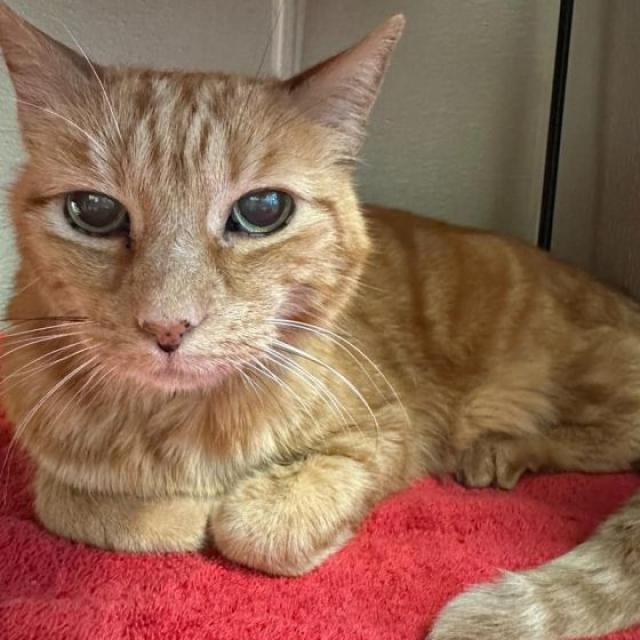domestic_short_hair_cat: (5, 1, 416, 410)
